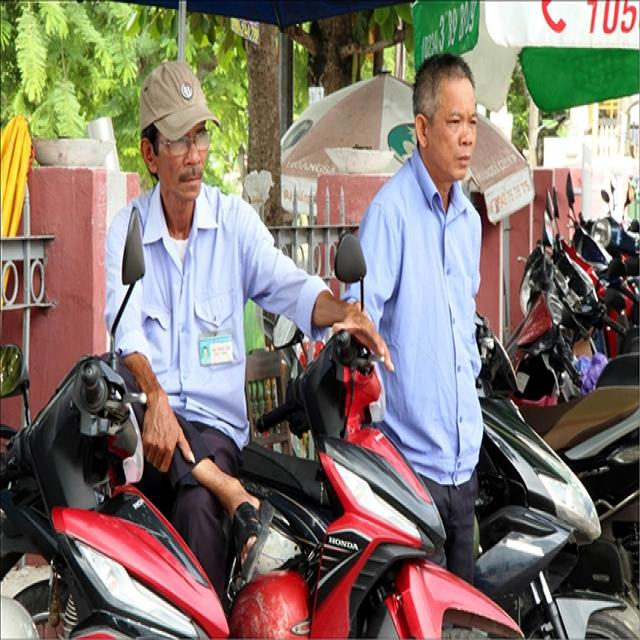Cap: (140, 61, 223, 141)
Face and Hair: (409, 48, 480, 185)
